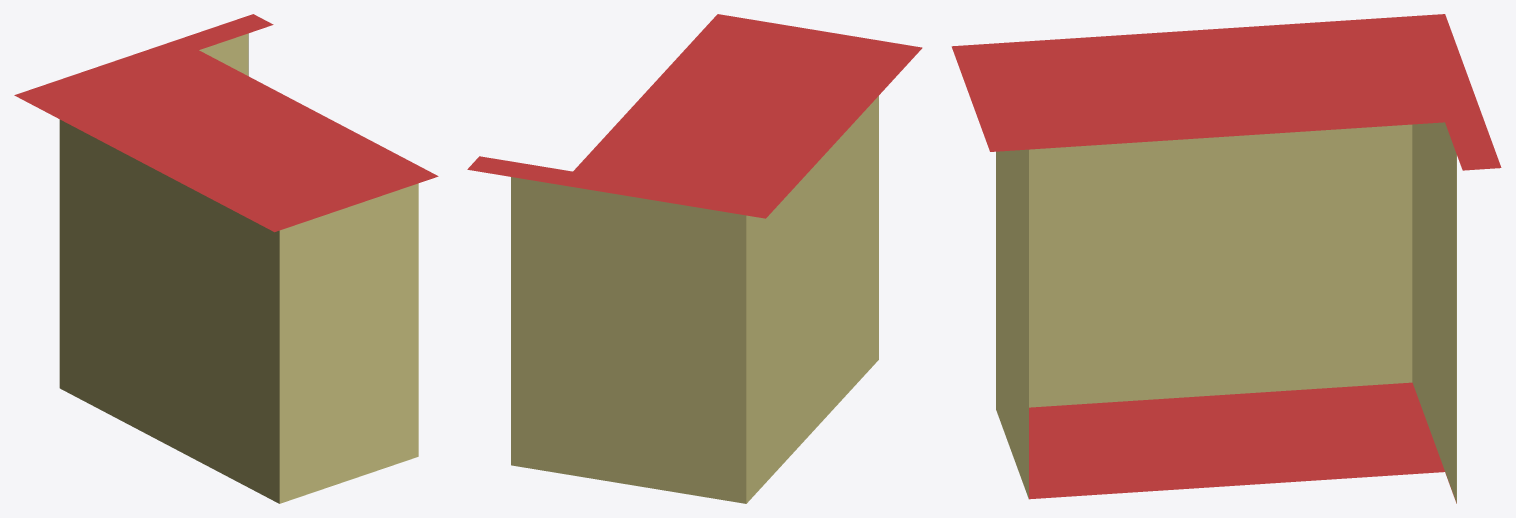
The picture shows the model from 3 angles, left to right: view 1: azimuth 30°, elevation 25°; view 2: azimuth 150°, elevation 25°; view 3: azimuth 270°, elevation 25°; orthographic projection. The views are drawn at different scales.
Size of the model in its own units: 4.74 by 7.04 by 4.94.
